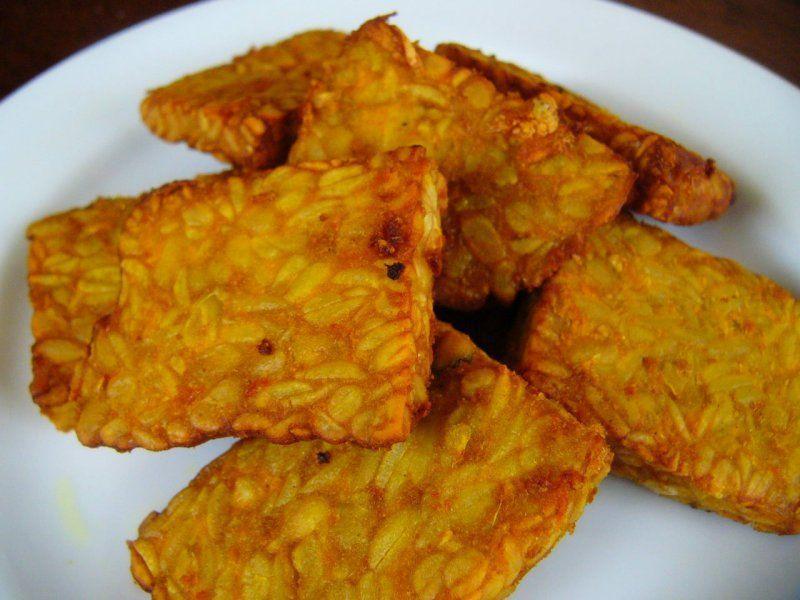kacang_legume: (57, 219, 376, 417), (226, 466, 489, 587), (556, 296, 790, 392), (247, 58, 501, 144)
